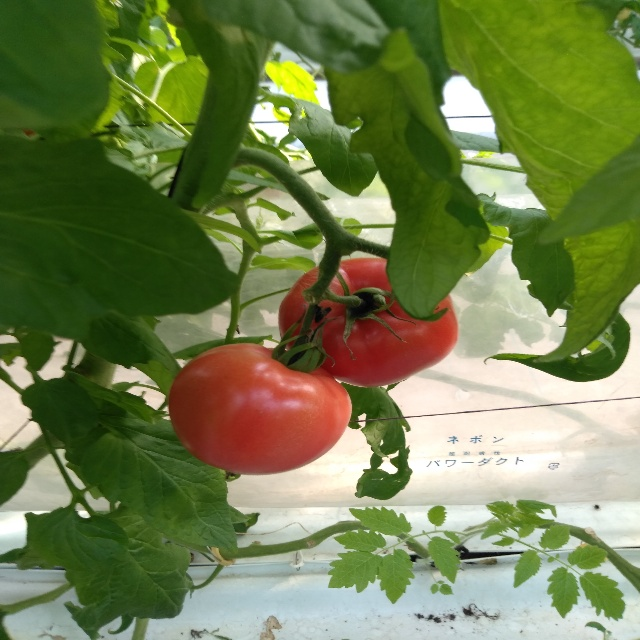b_fully_ripened: (168, 343, 352, 475), (278, 257, 459, 388)
